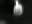person: (12, 1, 25, 17)
